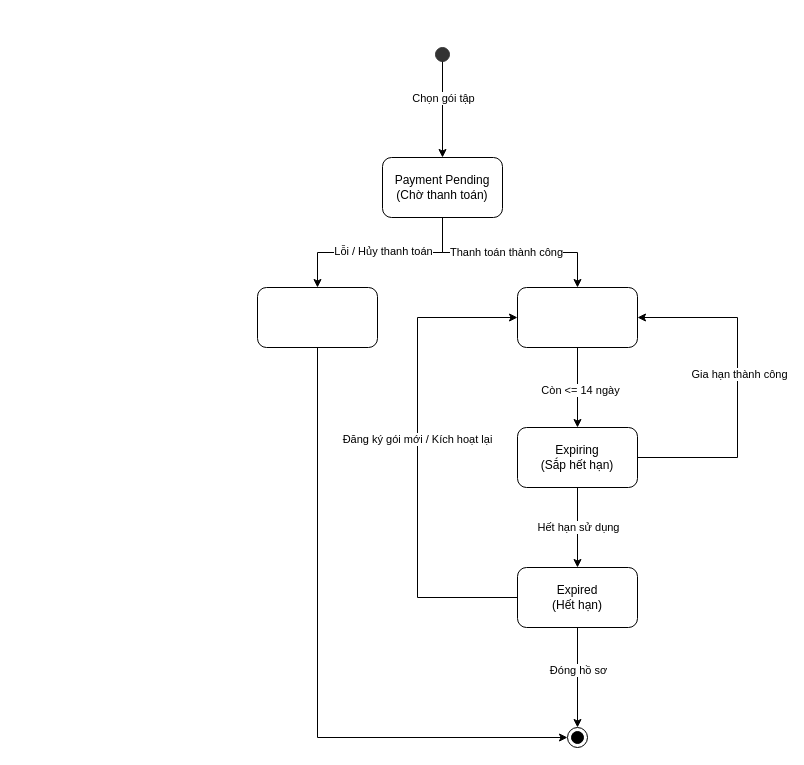
Some shapes in this 804 by 765 pixel diagram are drawn without their labels. Here are the shapes that lost their labels. From the top down, the centre of each, then its label:
the point at 317,317: Cancelled (Đã hủy bỏ)
the point at 577,317: Active (Đang sử dụng)
